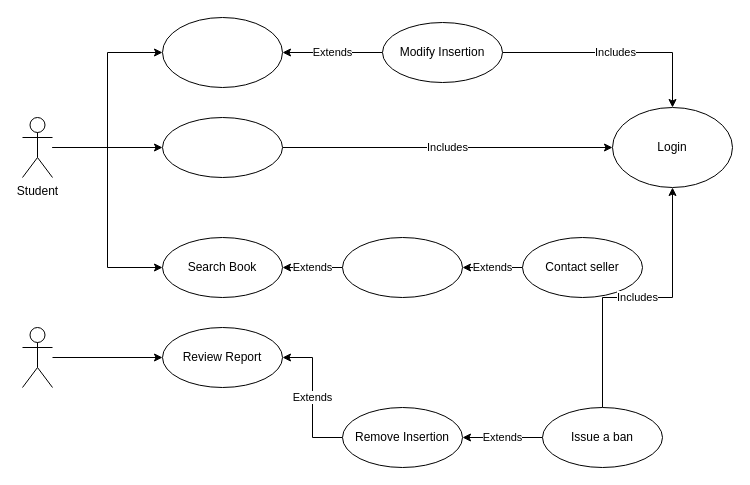
Some shapes in this 750 by 485 pixel diagram are drawn without their labels. The centre of each missing label's shape, as x and y in pixels:
"Admin" belongs at [37,357].
"New Insertion" belongs at [222,147].
"View Insertion" belongs at [402,267].
"View profile" belongs at [222,52].
